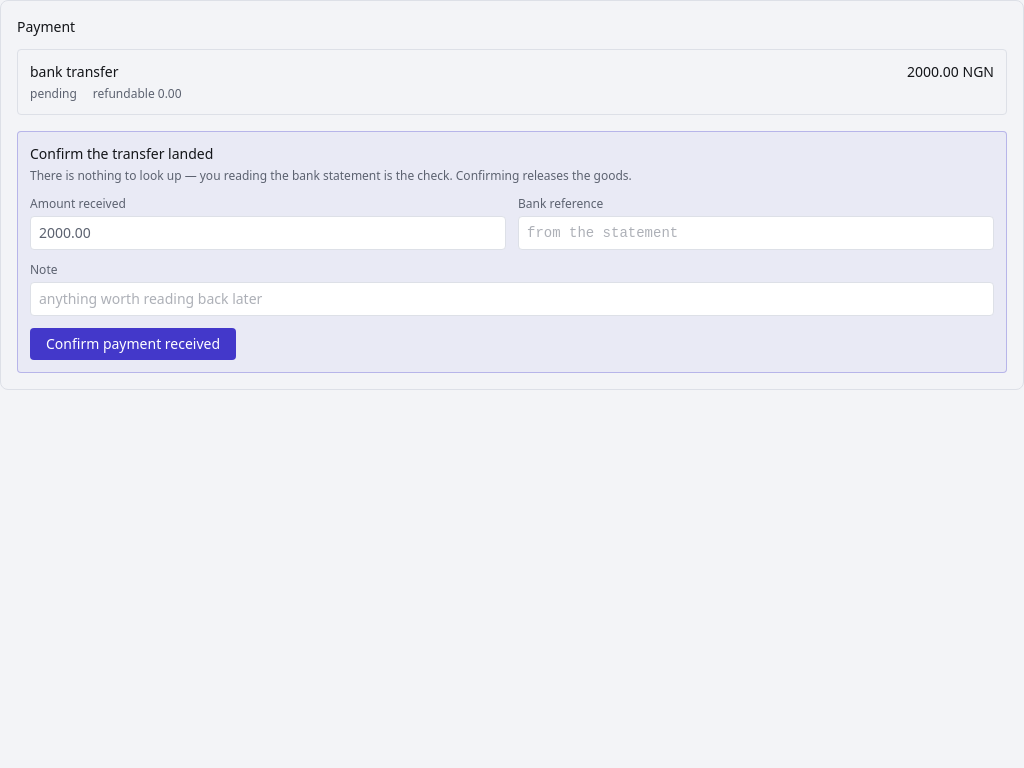
Test: PaymentPanel › SHOWS BOTH NUMBERS AND THE DELTA on a discrepancy
The image size is (1024, 768).
Type "REF1" into the field labelled "Bank reference".
click(756, 233); type("REF1")  # box [518,216,994,250]
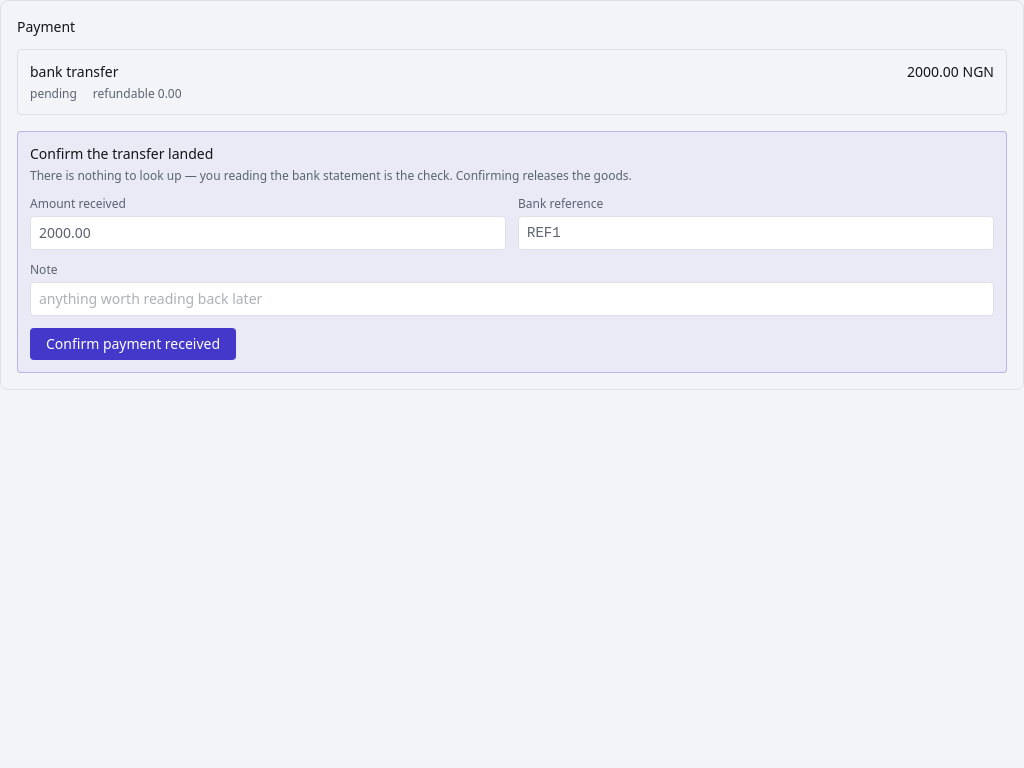
Click the button "Confirm payment received".
click(133, 344)  # box [30,328,236,360]
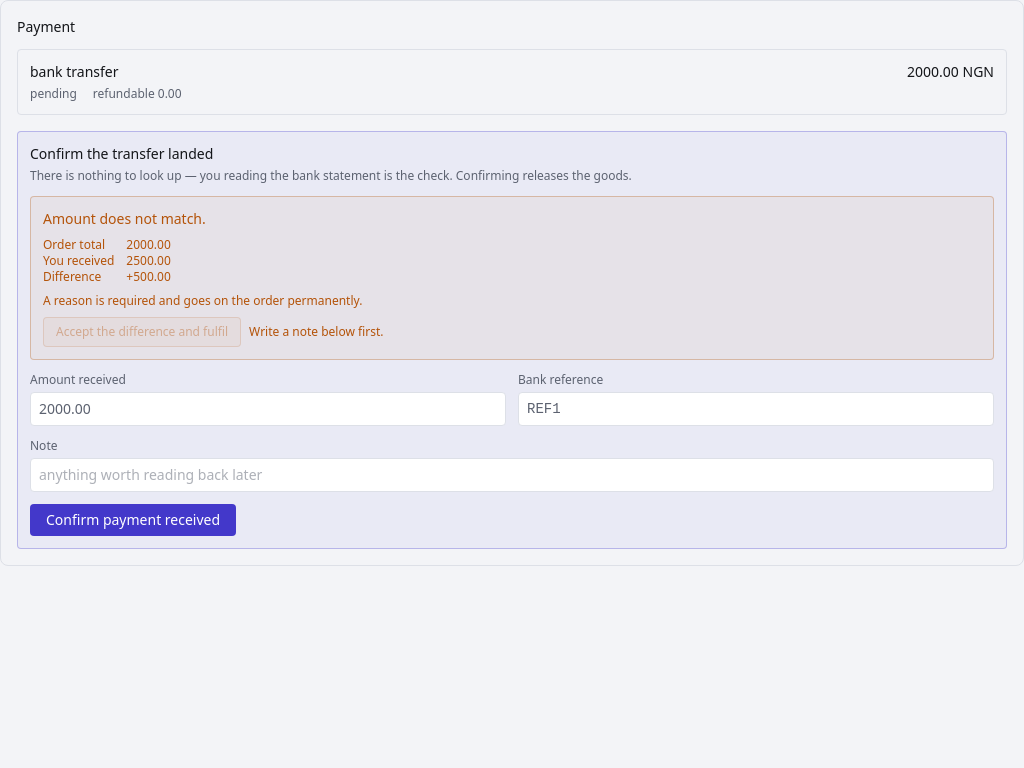
Check: the text "Order total" is shown, box [43,237,126,253]
Check: the text "2500.00" is shown, box [126,253,171,269]
Check: the text "+500.00" is shown, box [126,269,171,285]
